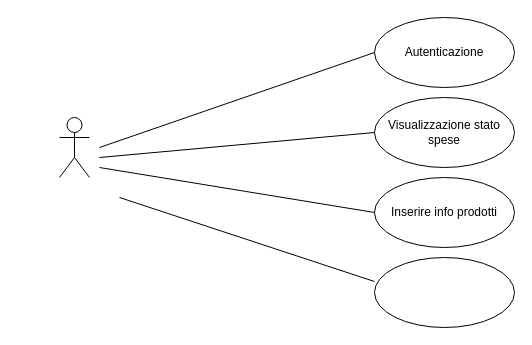
The diagram is 532 pixels wide and 345 high, and some of its shapes have lost their labels. Each missing label, with the centre of its shape:
Modifica info prodotti: the point at 444,292
Responsabile reparto: the point at 74,147
